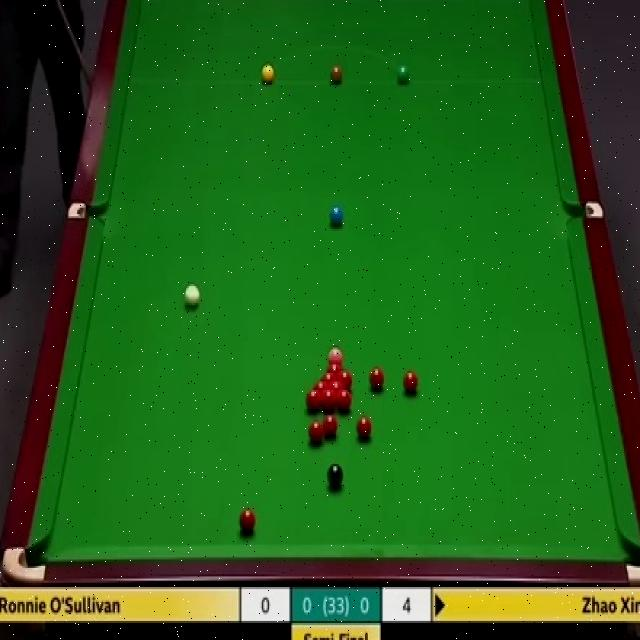black-ball: (327, 463, 345, 492)
blue-ball: (329, 203, 343, 224)
brown-ball: (330, 61, 342, 83)
green-ball: (396, 66, 411, 82)
pink-ball: (328, 346, 343, 365)
red-ball: (238, 507, 257, 533), (334, 388, 350, 415), (403, 371, 420, 396), (322, 412, 337, 440), (368, 366, 385, 389), (356, 415, 372, 439), (306, 390, 320, 416), (308, 418, 322, 444), (336, 371, 352, 393), (320, 385, 334, 410), (322, 373, 335, 392)
white-ball: (185, 286, 200, 309)
yellow-ball: (260, 65, 275, 82)
